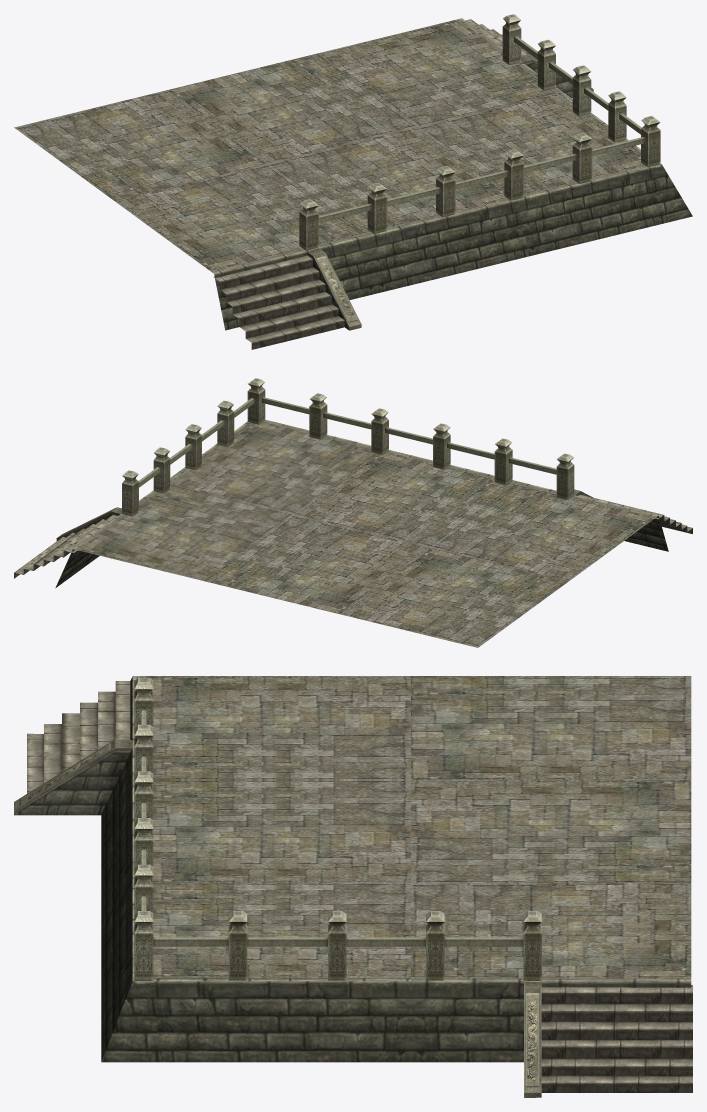
Rendered from ob-tower01_02.fbx.
3 views of the same model, one above another, from view 1: azimuth 30°, elevation 25°; view 2: azimuth 150°, elevation 25°; view 3: azimuth 270°, elevation 25° (orthographic). The views are drawn at different scales.
Visible parts, largest first — view 1: ob-013-tower01_04; view 2: ob-013-tower01_04; view 3: ob-013-tower01_04.
Part boxes in pixels (x1,y1,x2,y2): ob-013-tower01_04: (14,14,692,349); ob-013-tower01_04: (14,378,692,647); ob-013-tower01_04: (14,676,692,1097).
Size of the model in its own units: 42.52 by 7.32 by 34.43.
